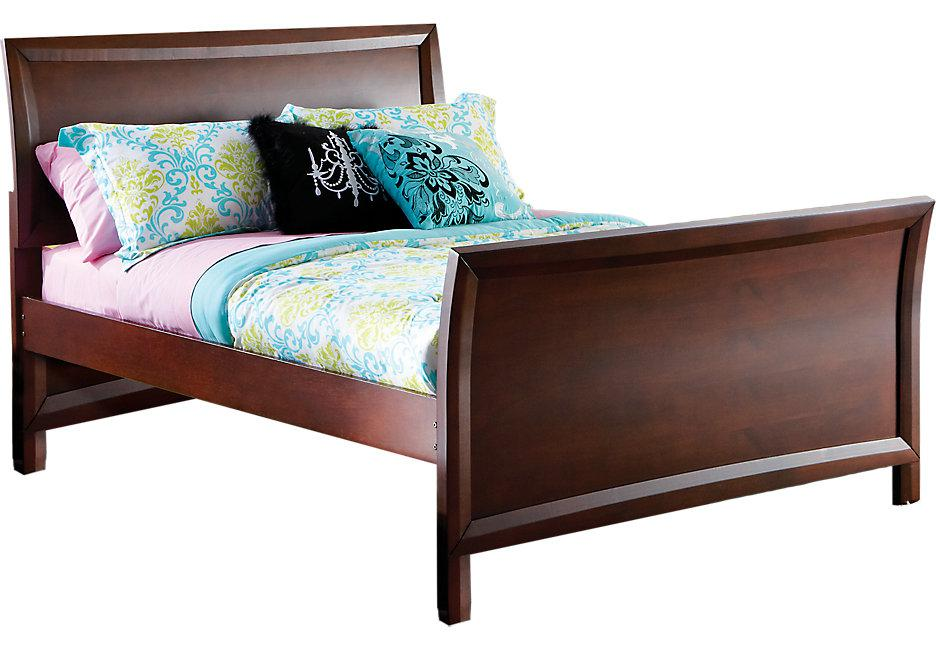bed: (3, 30, 923, 633)
